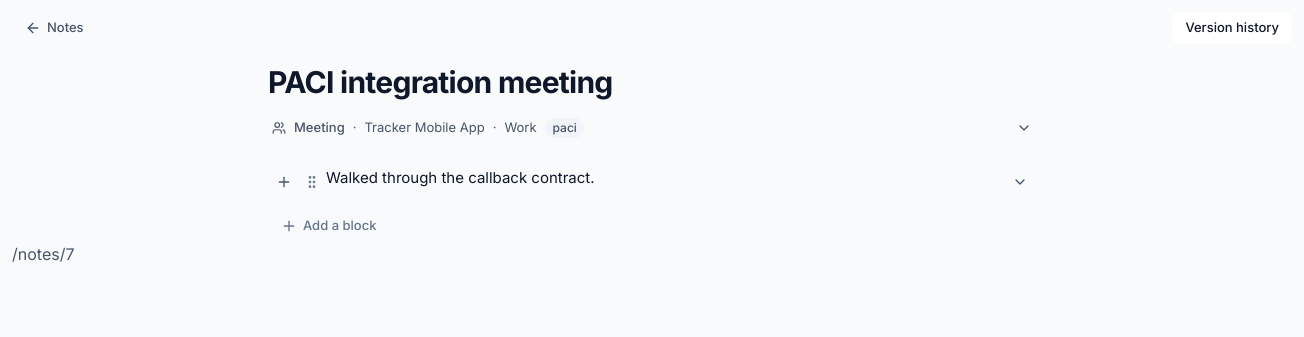
Test: NotePage - block keyboard model › Enter on an empty checklist item leaves the list instead of stacking empty items
Replace the text in the 2nd text box with "/check": x=663, y=178 [326,162,1000,194]
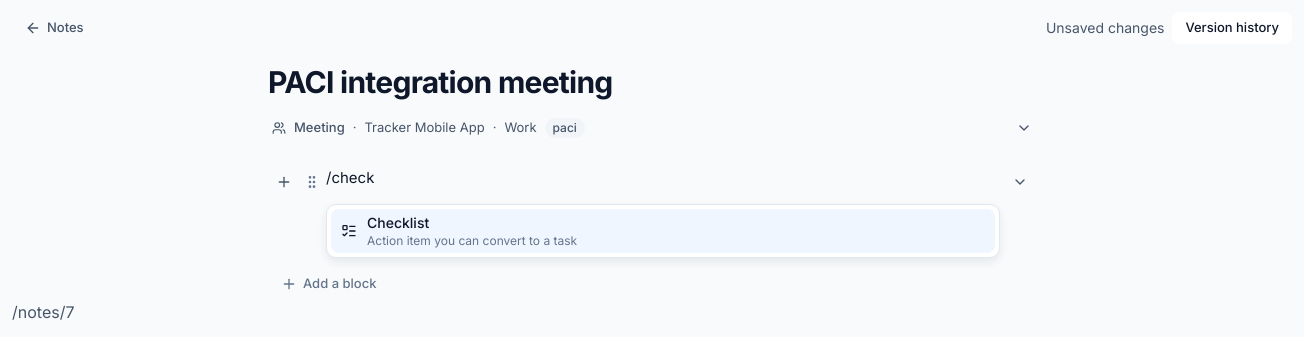
Press Enter
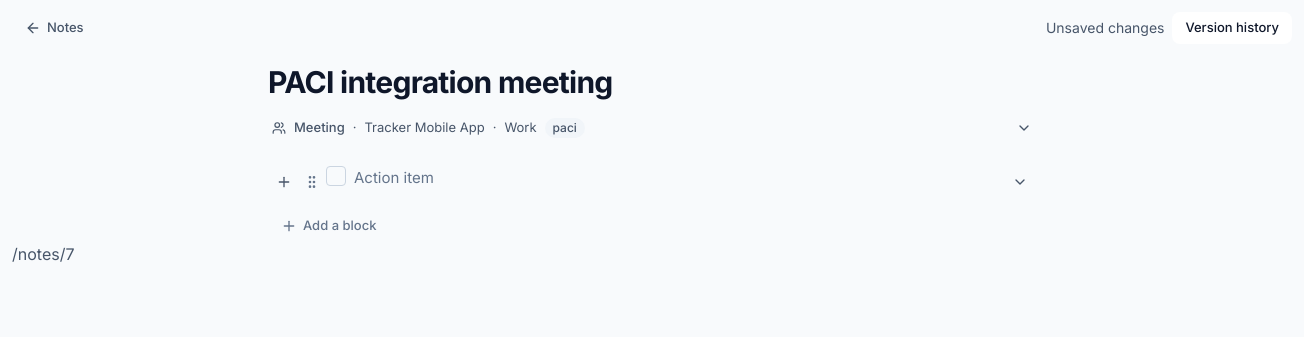
Expected: the checkbox is shown, [326,166,346,186]
Press Enter
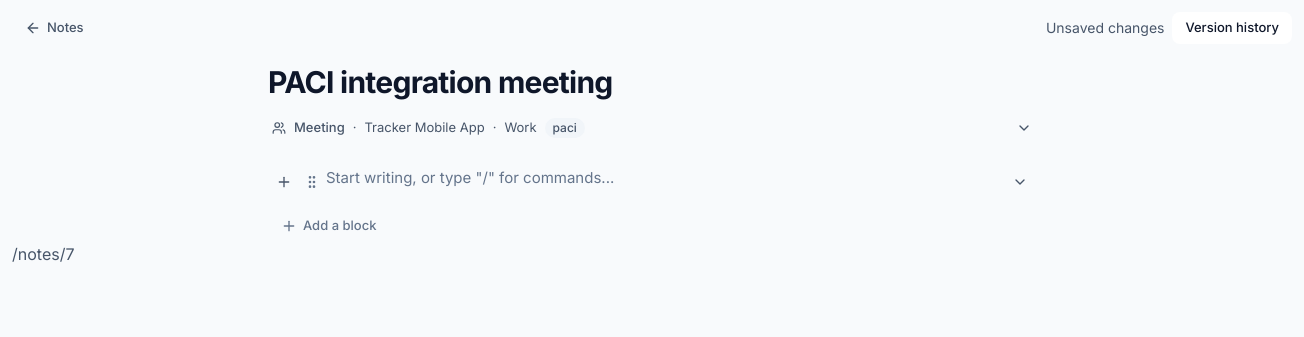
Expected: the checkbox is gone
